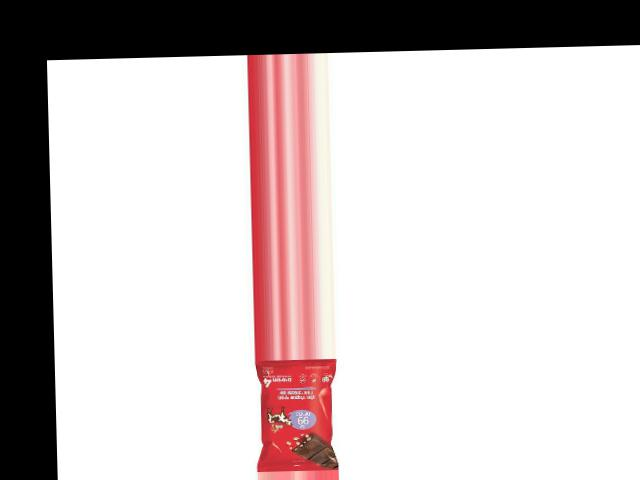chocolate: (257, 357, 339, 471)
